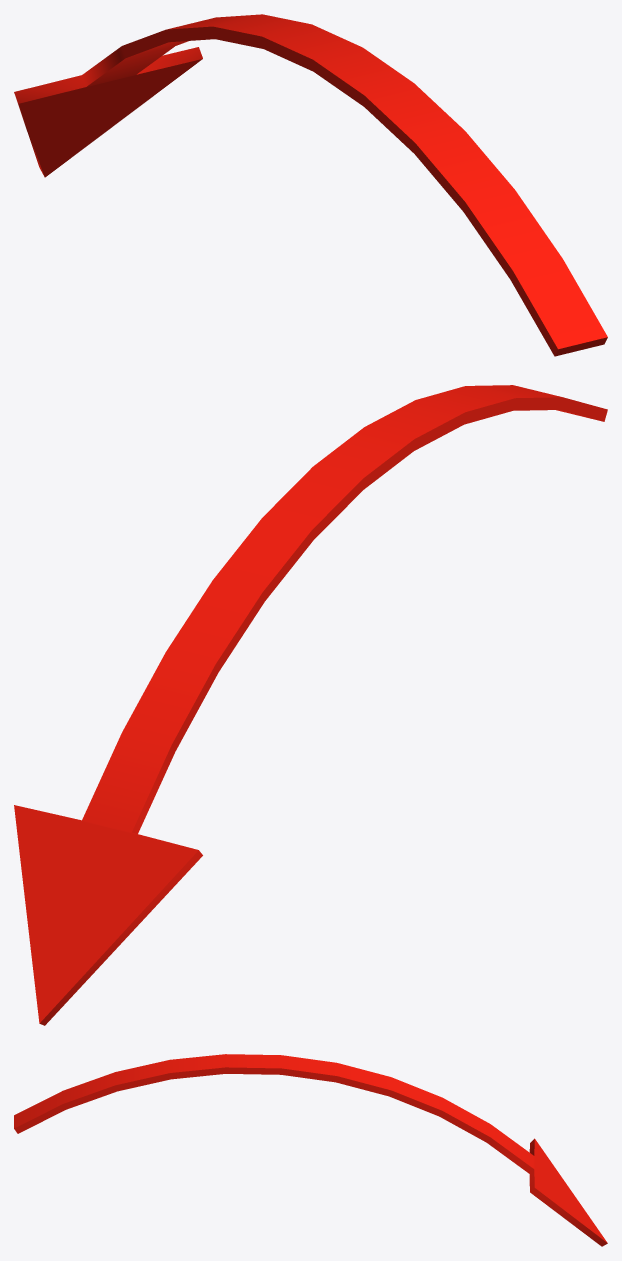
Rendered from Projectile Pointer.FBX.
3 renders of one model, top to bottom at view 1: azimuth 30°, elevation 25°; view 2: azimuth 150°, elevation 25°; view 3: azimuth 270°, elevation 25°, orthographic. The views are drawn at different scales.
Visible parts, largest first — view 1: Box001; view 2: Box001; view 3: Box001.
Boxes of the visible parts, box(x1,y1,x2,y2) form: Box001: box(14, 14, 607, 356); Box001: box(14, 385, 607, 1025); Box001: box(14, 1054, 607, 1246).
Bounding box in the file's own units: 52.93 × 93.19 × 270.
